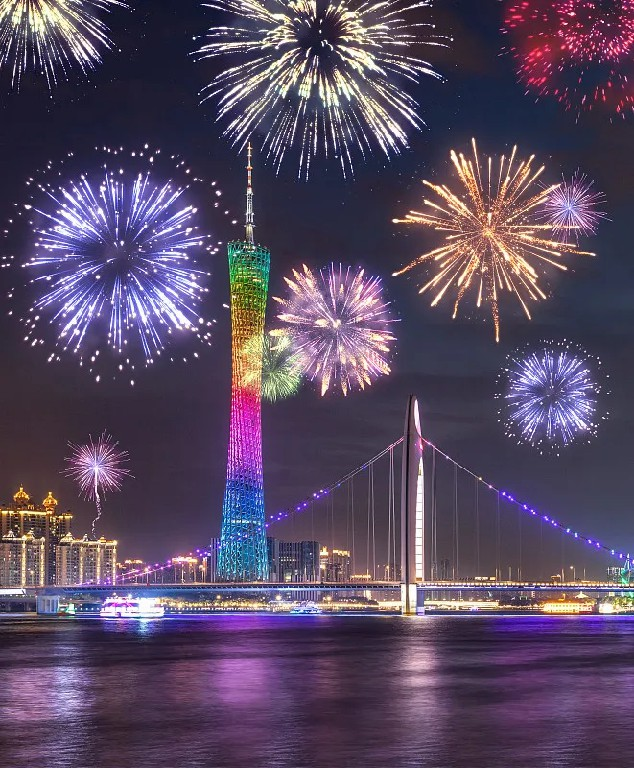Canton: (216, 144, 272, 586)
